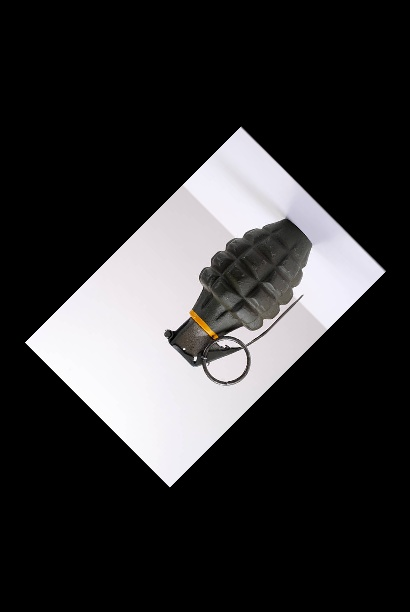e1: (163, 215, 311, 387)
